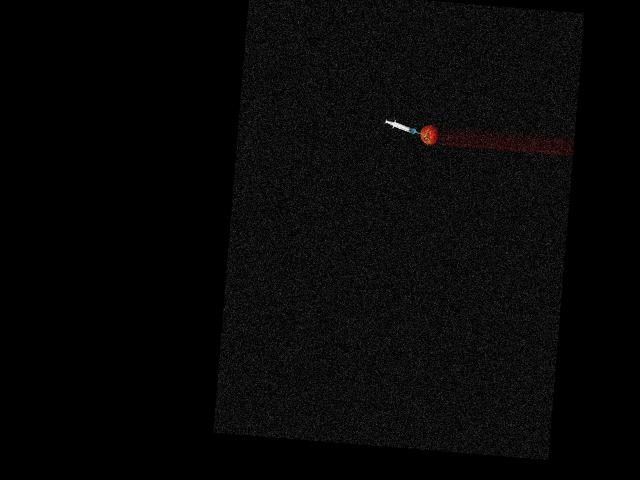tomato: (419, 124, 438, 145)
